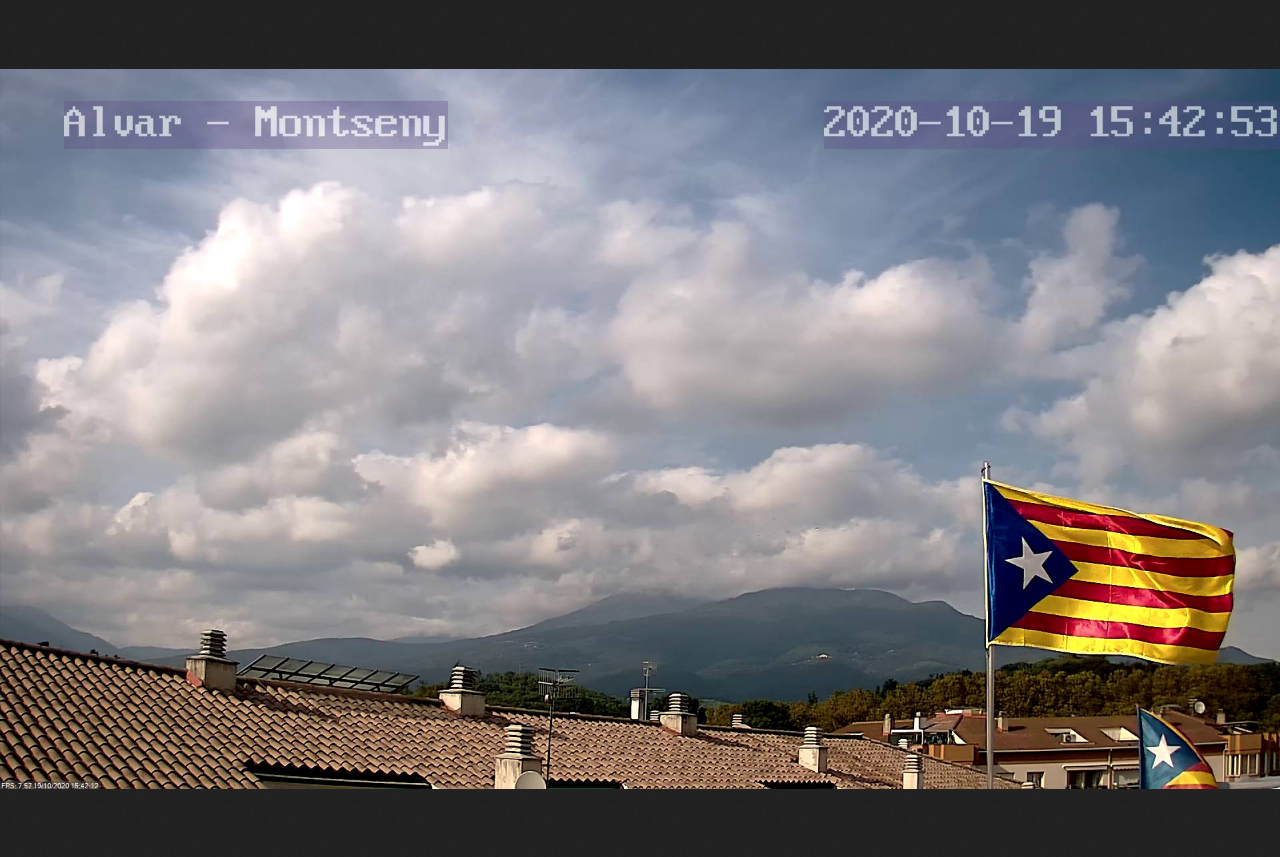yes: (972, 464, 1246, 673)
